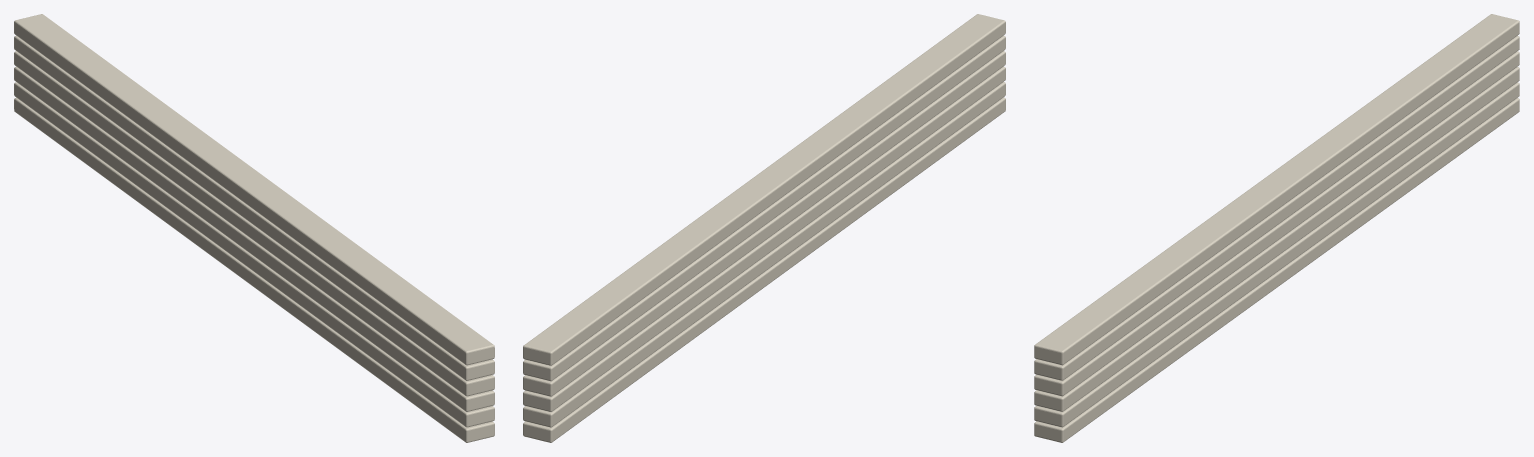
Rendered from blinds.glb.
3 renders of one model, left to right at view 1: azimuth 30°, elevation 25°; view 2: azimuth 150°, elevation 25°; view 3: azimuth 330°, elevation 25°, orthographic.
Visible parts, largest first — view 1: Cube.002; view 2: Cube.002; view 3: Cube.002.
Part boxes in pixels (x1,y1,x2,y2): Cube.002: (14, 14, 494, 442); Cube.002: (523, 14, 1005, 442); Cube.002: (1034, 14, 1519, 442).
Size of the model in its own units: 1.69 by 4.81 by 42.67.
